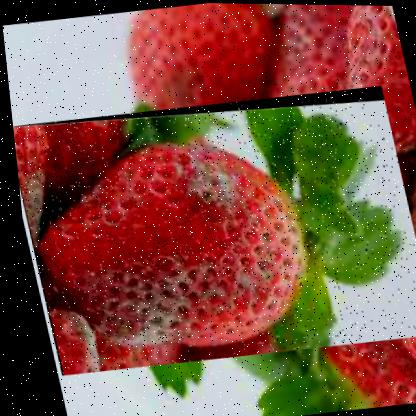strawberry_rotten: (6, 79, 415, 381)
